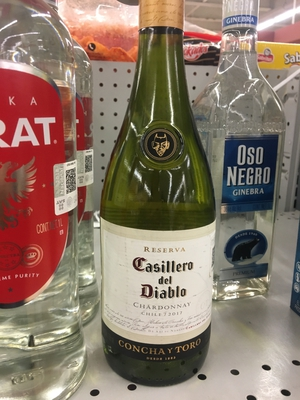casillero del diablo chardonnay: (98, 9, 216, 387)
